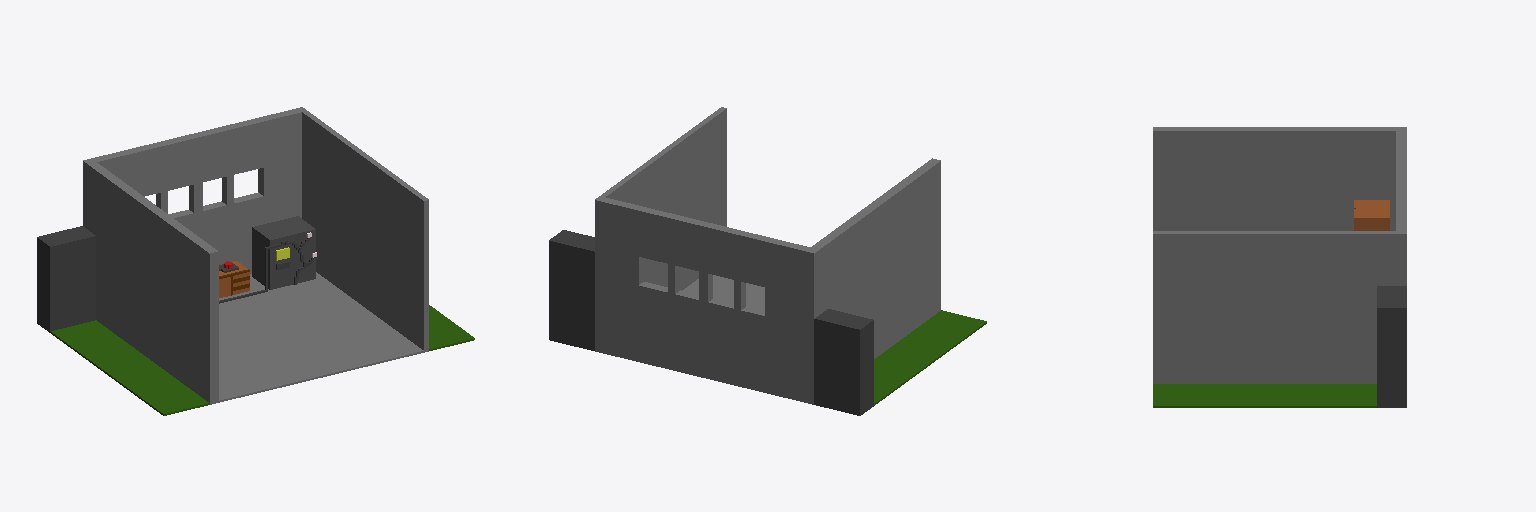
3 views of the same model, side by side, from view 1: azimuth 30°, elevation 25°; view 2: azimuth 150°, elevation 25°; view 3: azimuth 270°, elevation 25° (orthographic).
Parts seen in each view (by area): view 1: object 1; view 2: object 1; view 3: object 1.
Part boxes in pixels (bbox=[...]): object 1: bbox=[37, 107, 474, 415]; object 1: bbox=[549, 107, 986, 415]; object 1: bbox=[1153, 127, 1406, 407].
Bounding box in the file's own units: 17 × 7.9 × 12.
1 materials, 1 textured.